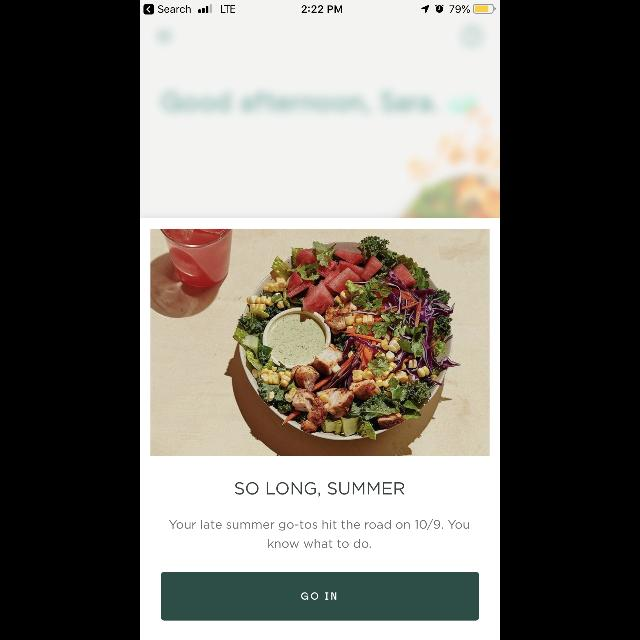image: (150, 229, 490, 456)
panel: (140, 218, 500, 640)
text: (169, 518, 469, 548), (235, 482, 405, 496)
textbutton: (161, 572, 479, 620)
uppertaskbar: (140, 1, 500, 15)
